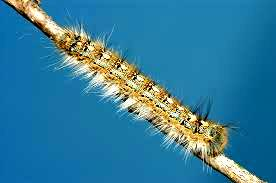Caterpillar: (57, 16, 232, 167)
